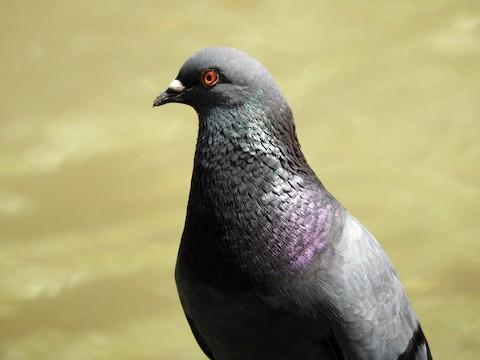pigeon: (150, 37, 440, 355)
